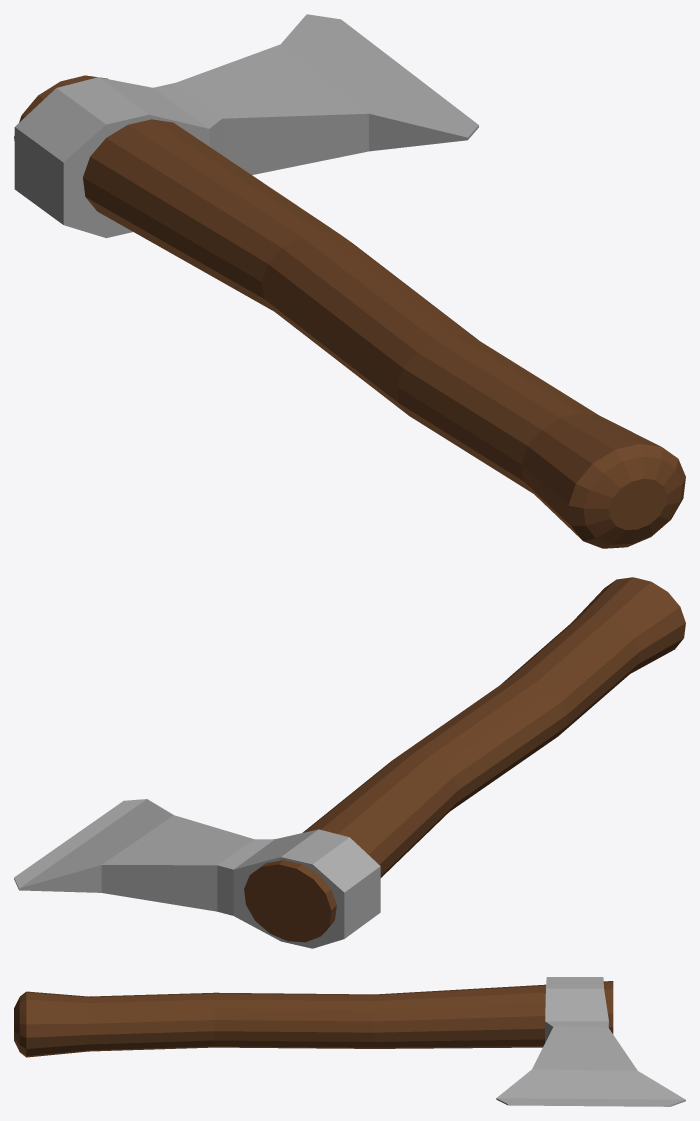
File: Axe.fbx
The picture shows the model from 3 angles, top to bottom: view 1: azimuth 30°, elevation 25°; view 2: azimuth 150°, elevation 25°; view 3: azimuth 270°, elevation 25°; orthographic projection. The views are drawn at different scales.
Parts seen in each view (by area): view 1: Axe; view 2: Axe; view 3: Axe.
Part boxes in pixels (x1,y1,x2,y2): Axe: (14, 14, 685, 548); Axe: (14, 577, 685, 948); Axe: (14, 977, 685, 1106).
Size of the model in its own units: 193 by 54.44 by 513.
